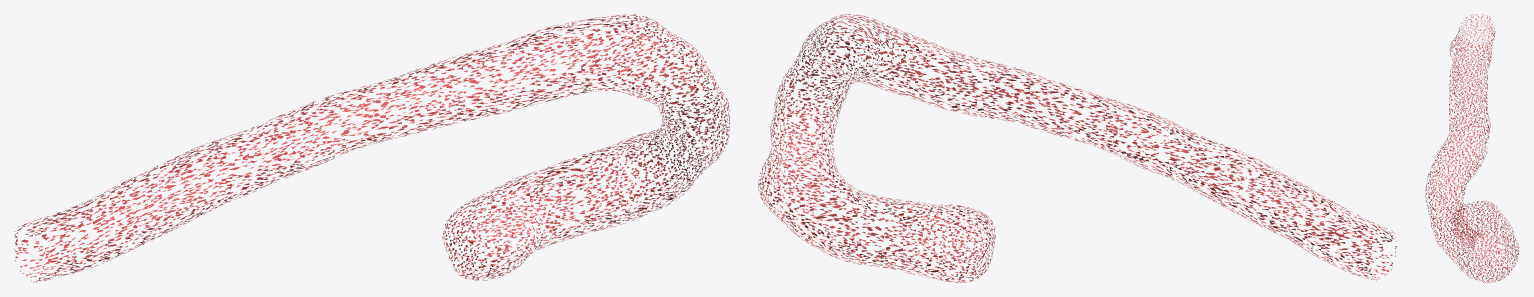
The model's file is aorta.glb.
3 renders of one model, left to right at view 1: azimuth 30°, elevation 25°; view 2: azimuth 150°, elevation 25°; view 3: azimuth 270°, elevation 25°, orthographic. The views are drawn at different scales.
Size of the model in its own units: 268 by 90.25 by 53.11.
